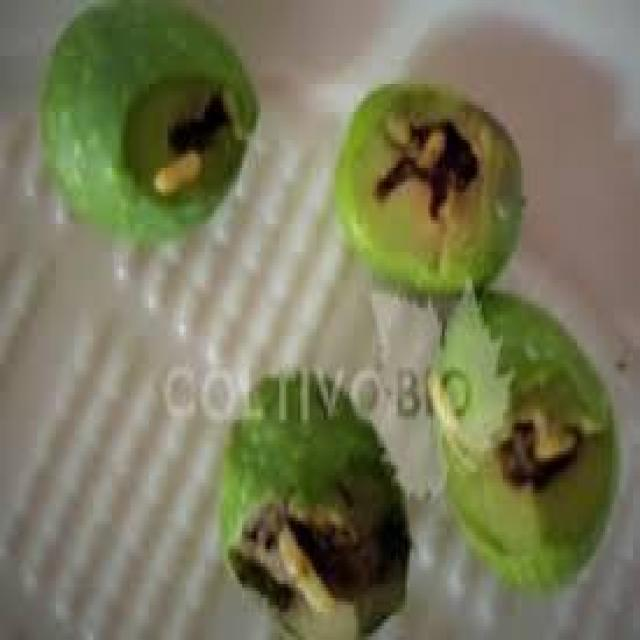Anthracnose: (428, 304, 614, 584), (42, 0, 256, 241), (221, 378, 410, 636), (335, 84, 524, 325)
